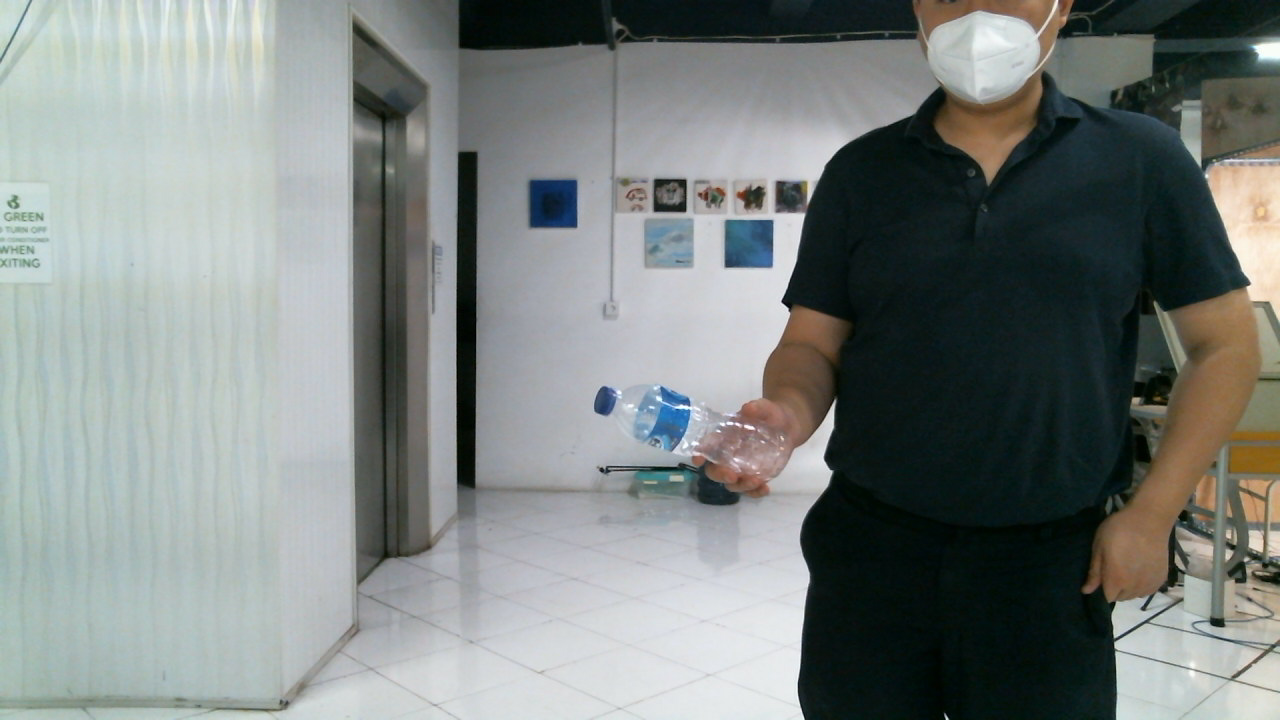Bottle: (594, 382, 793, 482)
